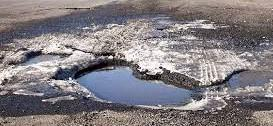crack: (66, 44, 94, 55)
pothole: (77, 58, 205, 109), (220, 68, 273, 94), (16, 49, 74, 68)
